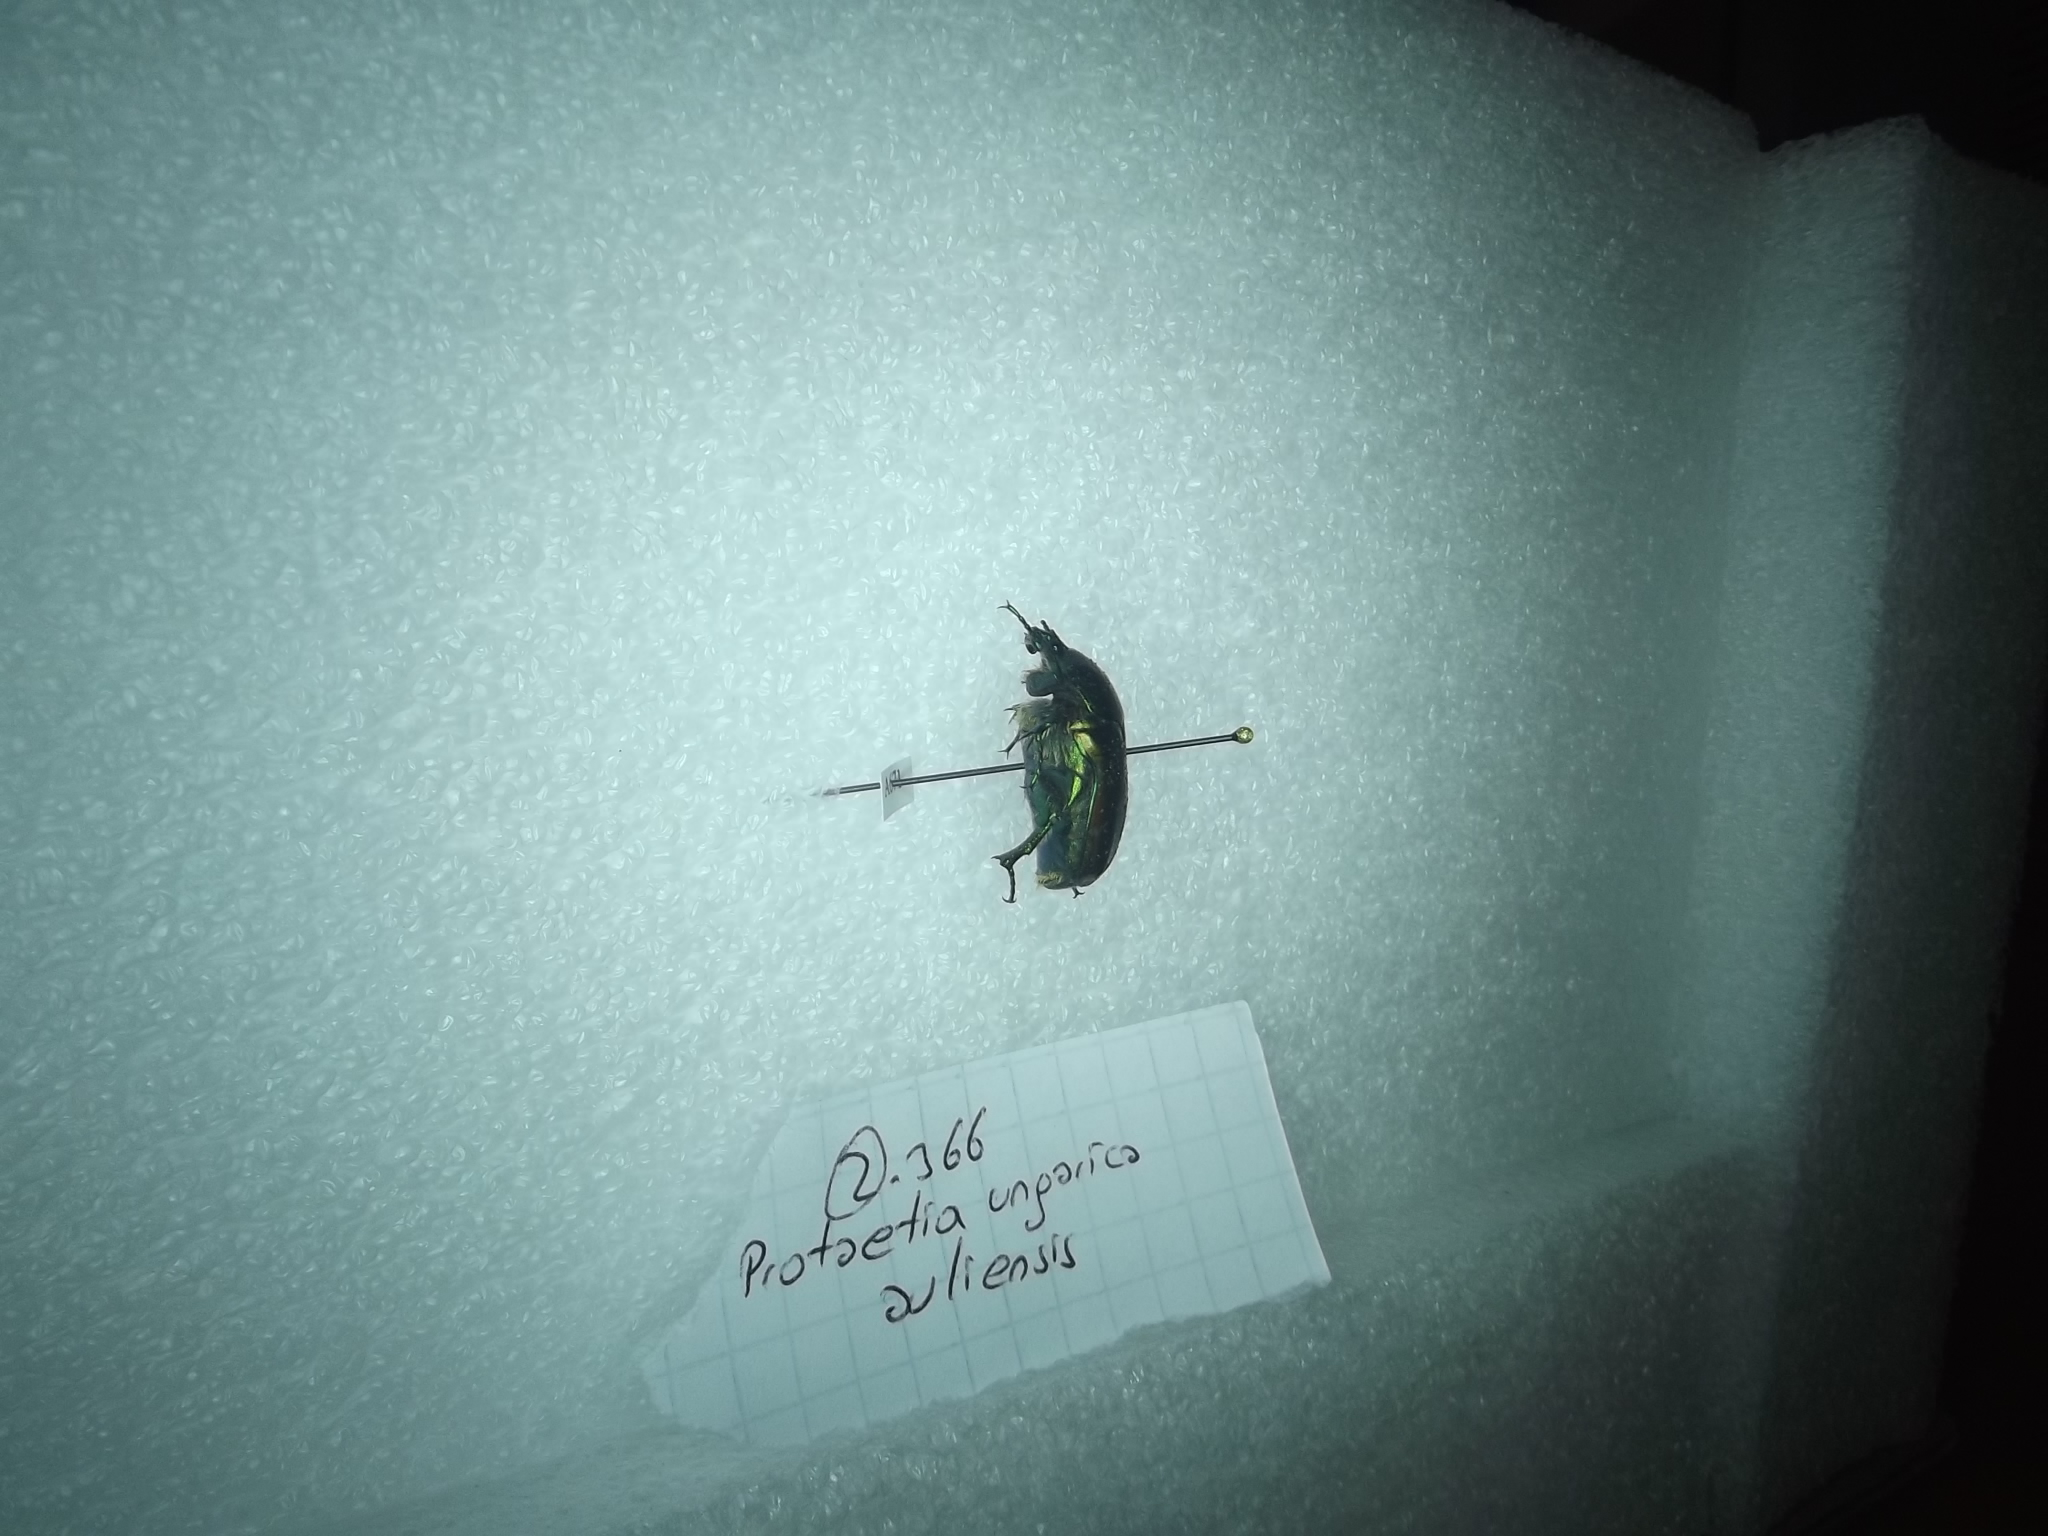Protaetia_ungarica: (989, 594, 1137, 921)
